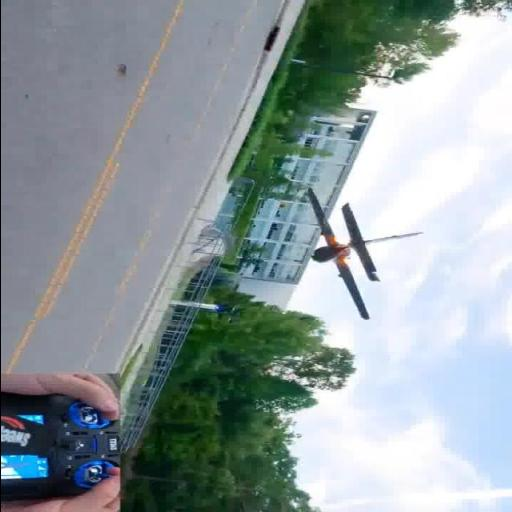uav: (290, 187, 423, 323)
